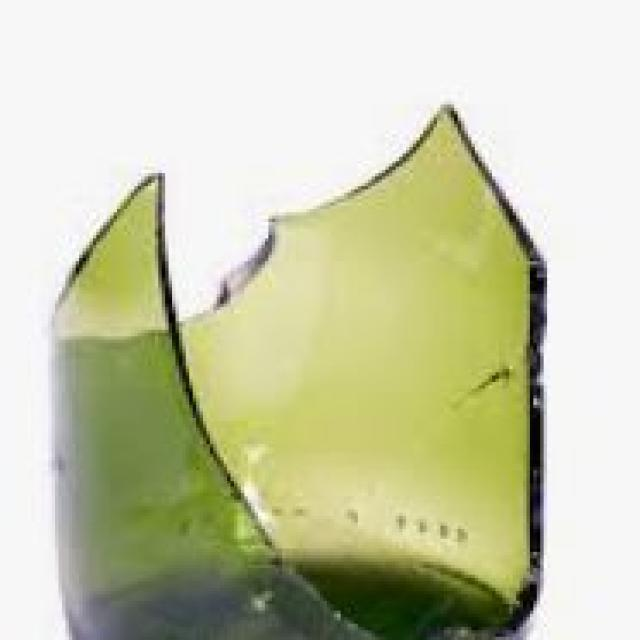electronic: (48, 104, 547, 640)
